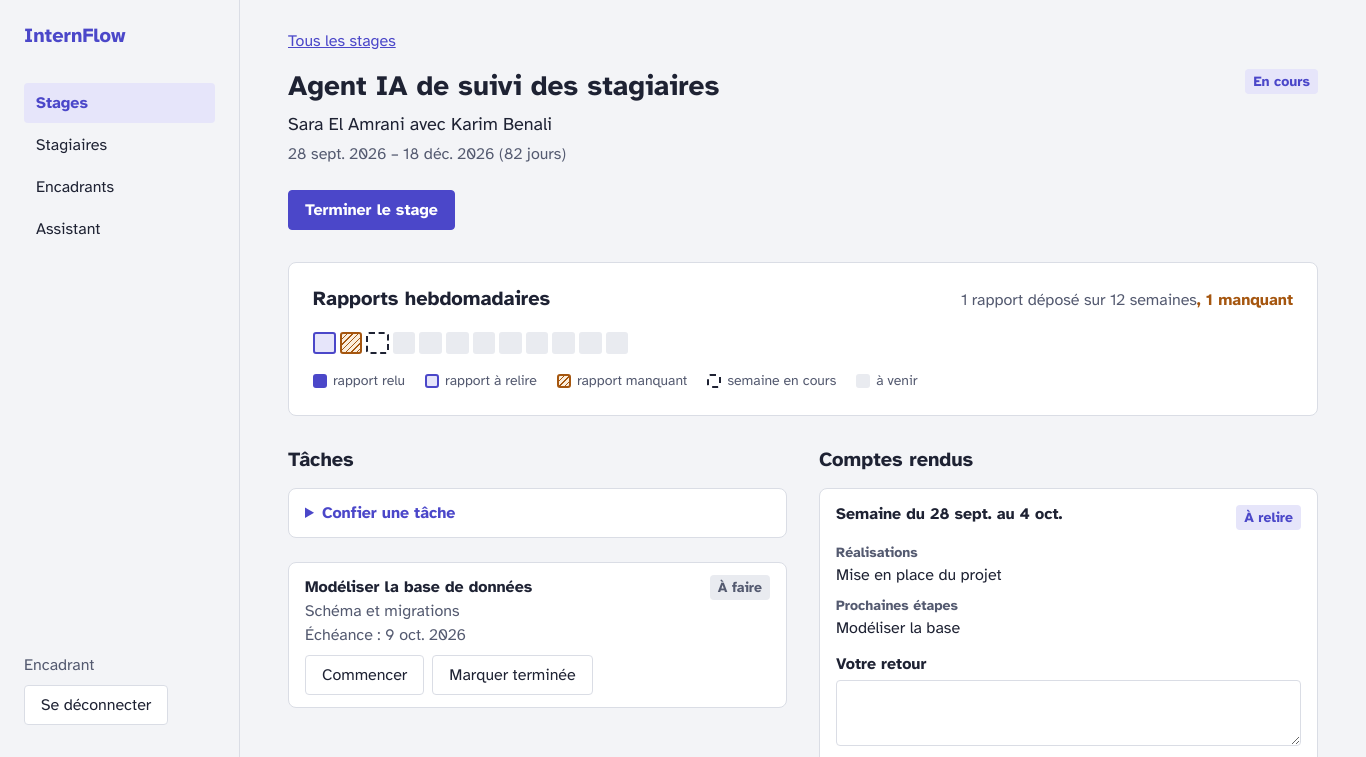
Test: page d'un stage › permet à l'encadrant de relire un rapport
The image size is (1366, 757).
Step 1. Type "Bon début, continue." into the text box labelled "Votre retour" → {"x": 1068, "y": 713}, box [836, 680, 1301, 746]
(page scrolled)
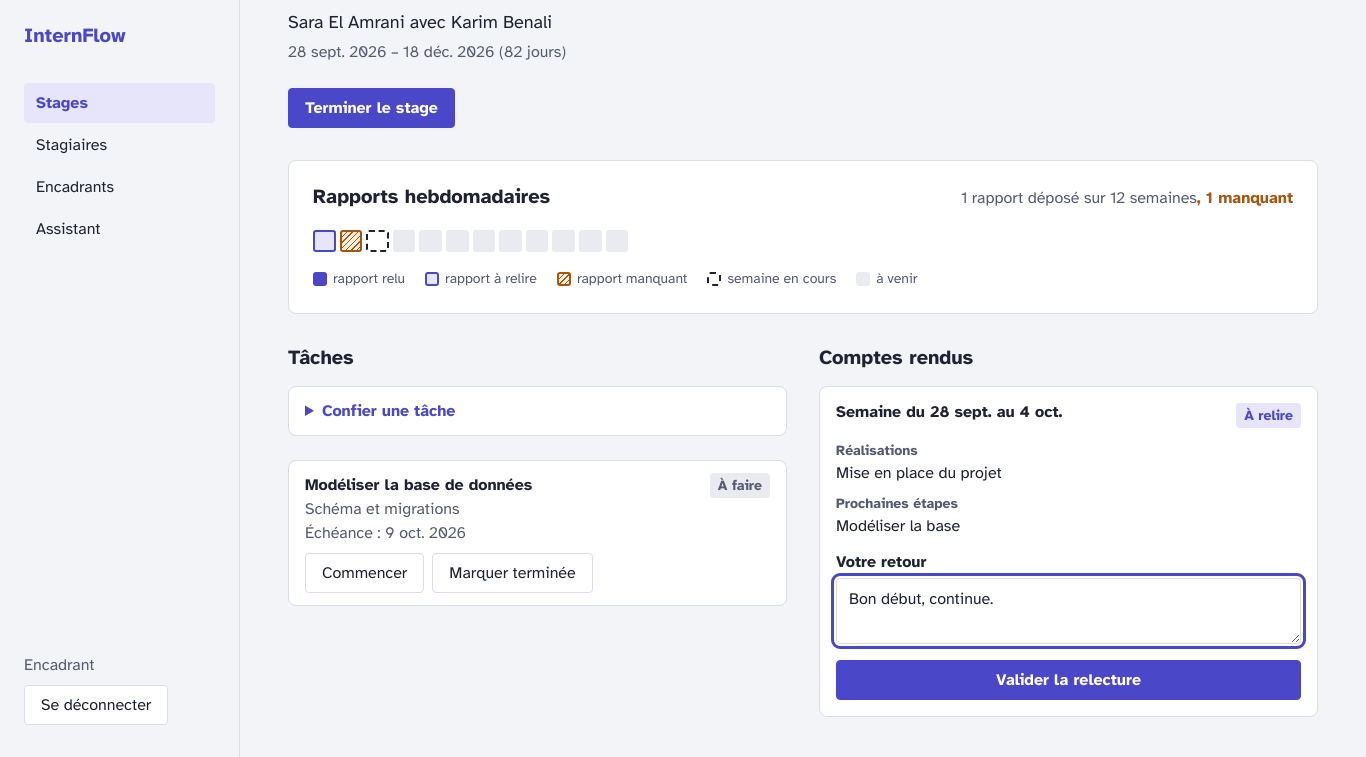
Step 2. Click the button "Valider la relecture" → {"x": 1068, "y": 680}, box [836, 660, 1301, 700]
(page scrolled)
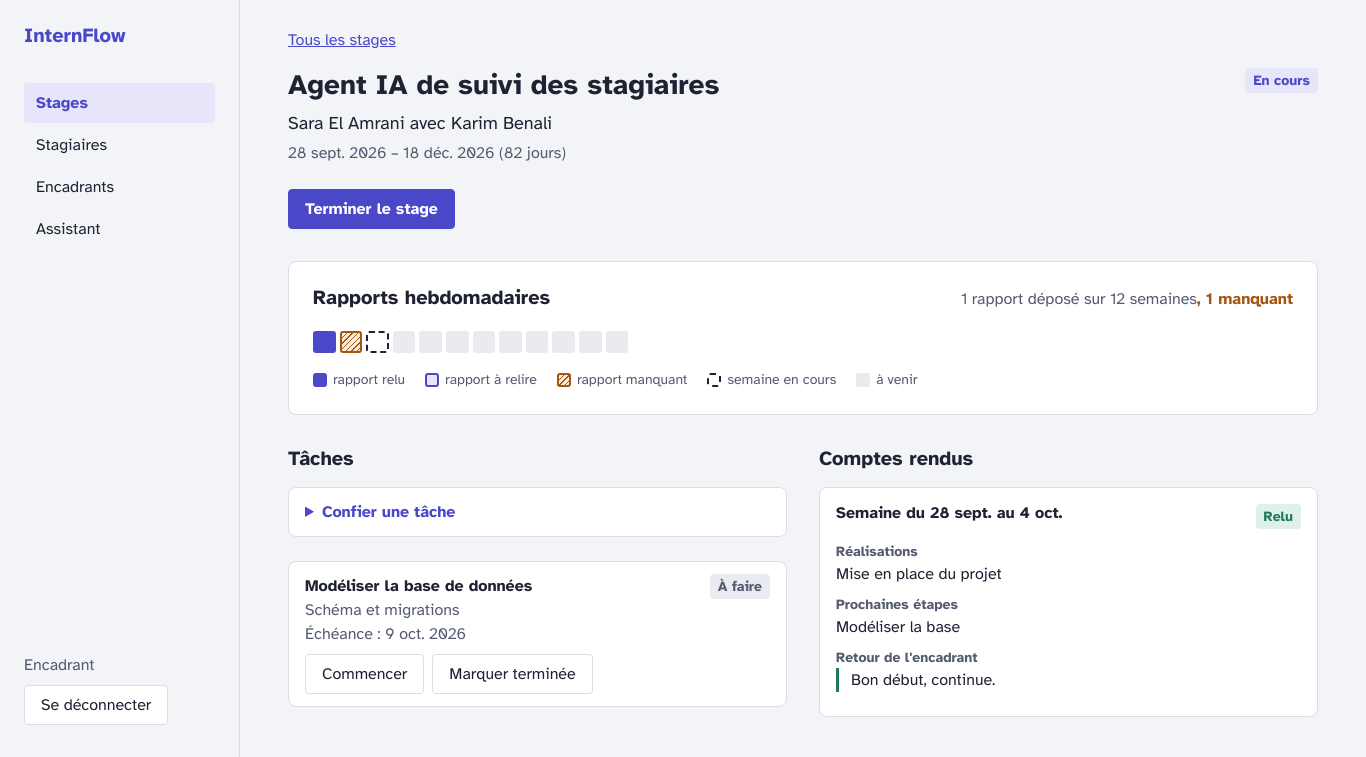
Now the text "Bon début, continue." is shown, box [836, 668, 1301, 692]
Now the text "Relu" is shown, box [1256, 504, 1301, 529]
